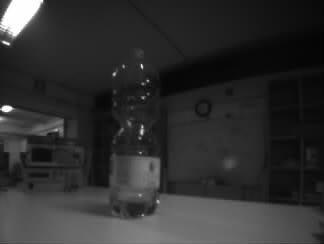Bottle: (108, 47, 163, 220)
